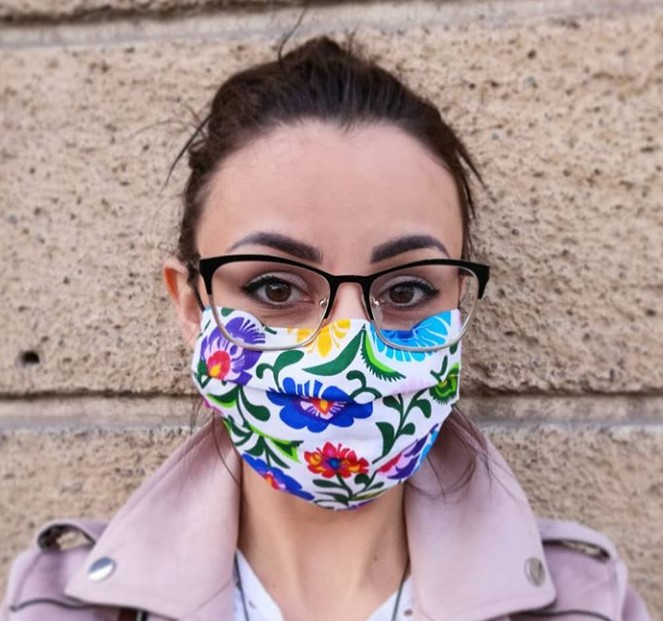face_with_mask: (161, 47, 495, 520)
